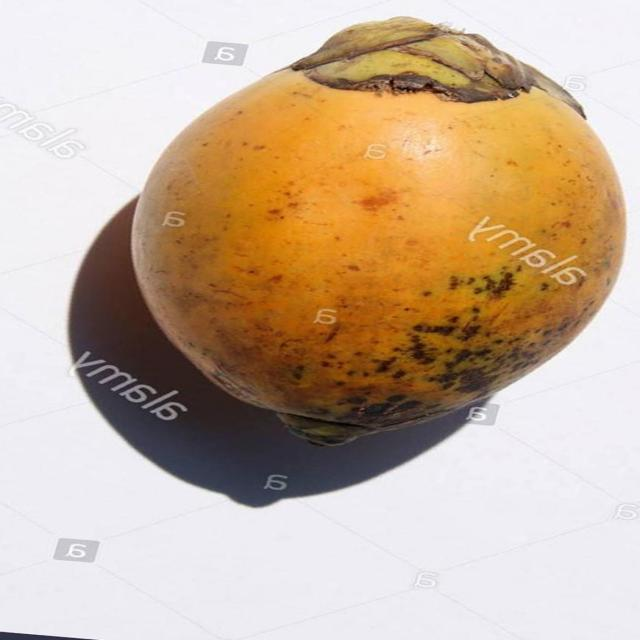good: (129, 16, 627, 448)
